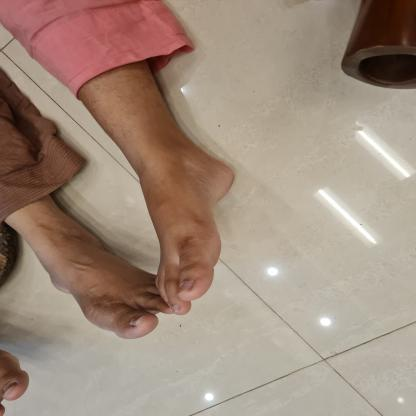leg: (78, 91, 250, 324), (0, 190, 173, 342)
